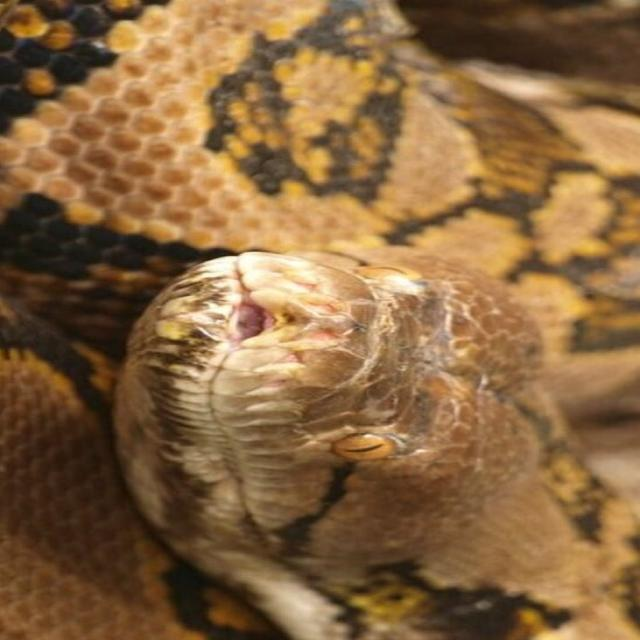Non-Venomous: (77, 244, 560, 503)
